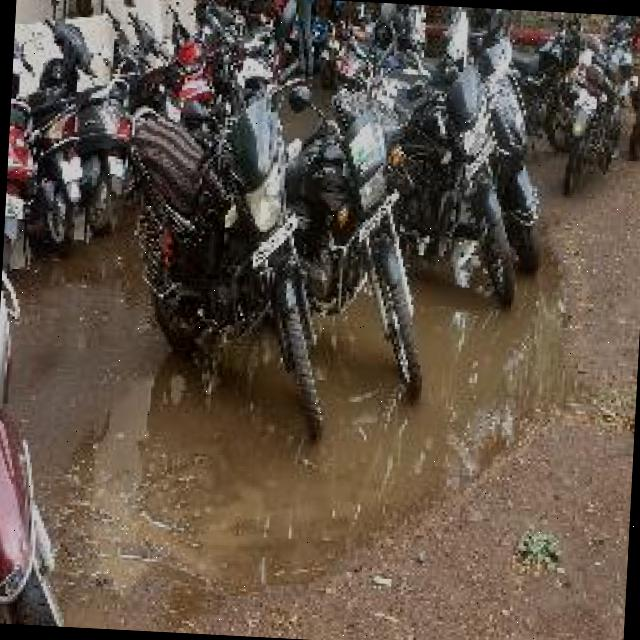stagnation: (61, 408, 310, 612)
